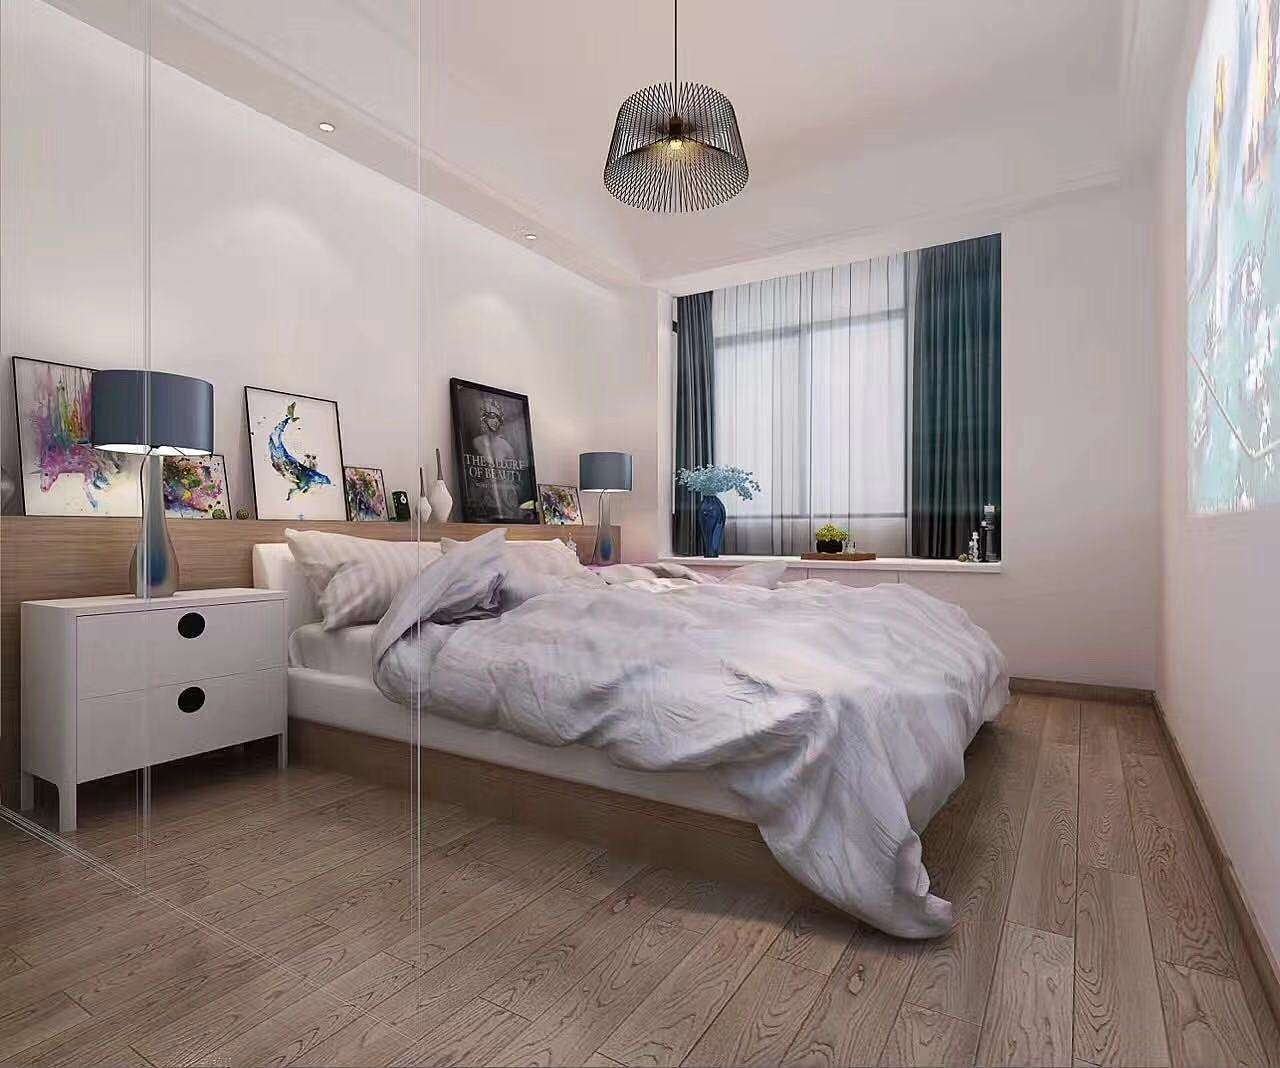床: (311, 556, 1011, 925)
灯: (599, 32, 764, 228), (81, 361, 210, 609), (575, 450, 641, 562), (308, 117, 343, 138)
